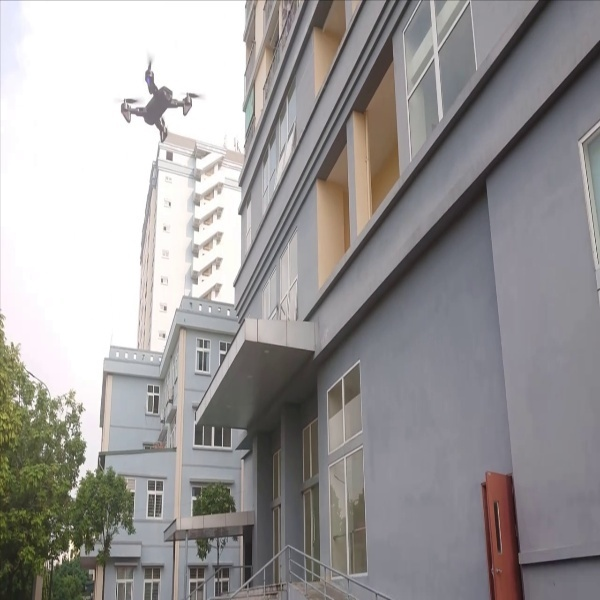drone: (109, 47, 207, 148)
